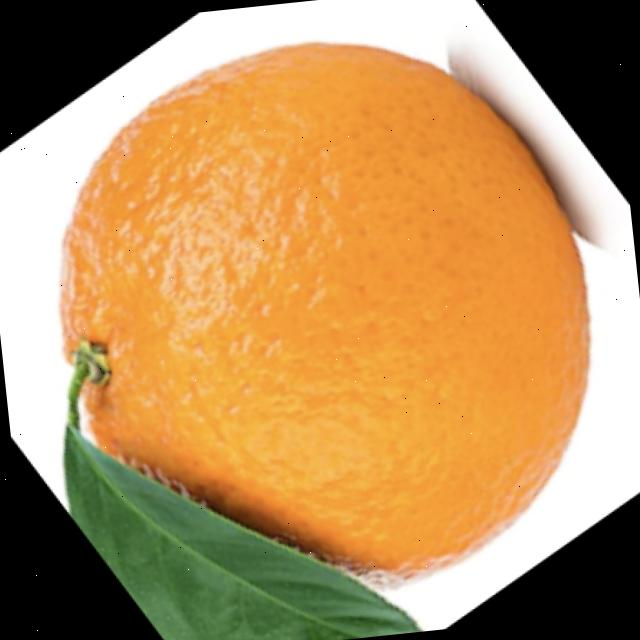orange: (34, 12, 617, 620)
